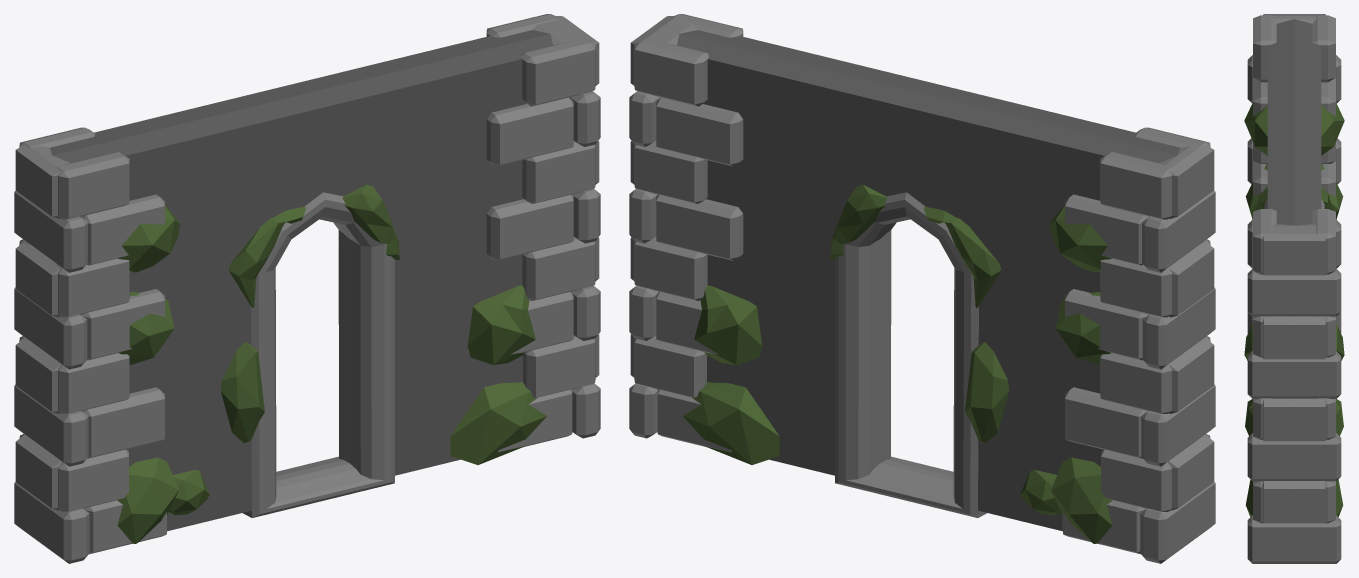
The model's file is DungeonWallDoorMossy.fbx.
3 views of the same model, side by side, from view 1: azimuth 30°, elevation 25°; view 2: azimuth 150°, elevation 25°; view 3: azimuth 270°, elevation 25° (orthographic). The views are drawn at different scales.
Visible parts, largest first — view 1: DungeonWallDoorMossy; view 2: DungeonWallDoorMossy; view 3: DungeonWallDoorMossy.
Boxes of the visible parts, x1,y1,x2,y2 form: DungeonWallDoorMossy: [14, 14, 600, 563]; DungeonWallDoorMossy: [629, 14, 1215, 563]; DungeonWallDoorMossy: [1244, 14, 1344, 563].
Bounding box in the file's own units: 520 × 362 × 97.34.
Materials: 1 (1 with a texture image).
